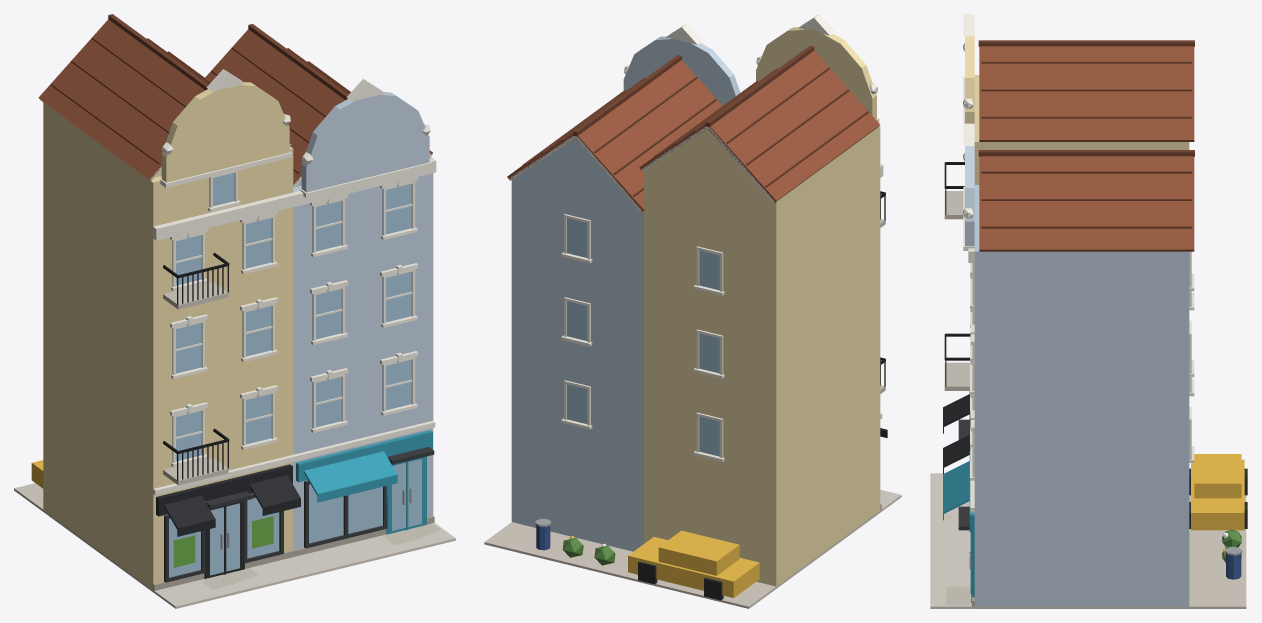
File: Blok_duz_4k_4_Hafif.fbx
The picture shows the model from 3 angles, left to right: view 1: azimuth 30°, elevation 25°; view 2: azimuth 150°, elevation 25°; view 3: azimuth 270°, elevation 25°; orthographic projection. The views are drawn at different scales.
Visible parts, largest first — view 1: Blok_duz_4k_4_Hafif; view 2: Blok_duz_4k_4_Hafif; view 3: Blok_duz_4k_4_Hafif.
Boxes of the visible parts, x1=… form: Blok_duz_4k_4_Hafif: x1=14, y1=14, x2=455, y2=608; Blok_duz_4k_4_Hafif: x1=484, y1=14, x2=901, y2=608; Blok_duz_4k_4_Hafif: x1=930, y1=14, x2=1247, y2=608.
Bounding box in the file's own units: 10.18 × 17.32 × 10.04.
